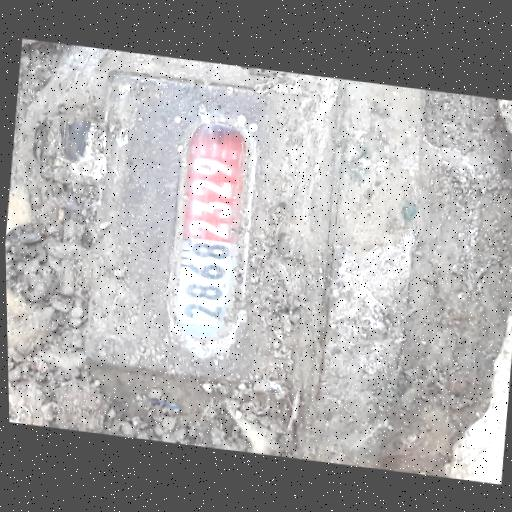2: (177, 297, 231, 327), (182, 214, 236, 244), (185, 173, 240, 201)
3: (183, 195, 238, 221)
6: (180, 257, 233, 285)
8: (180, 236, 232, 265), (178, 277, 232, 304)
9: (187, 148, 244, 181)
border_water_meter_number: (157, 110, 265, 346)
